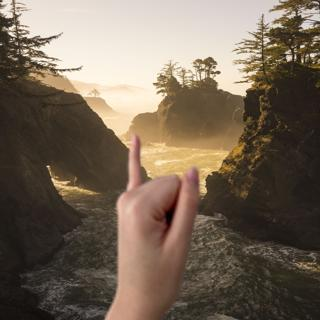Fine: (111, 130, 208, 310)
